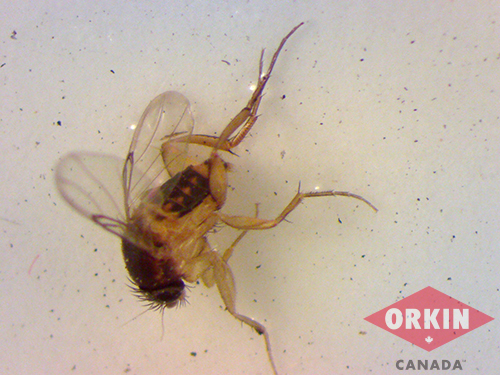phorid fly: (61, 11, 369, 365)
